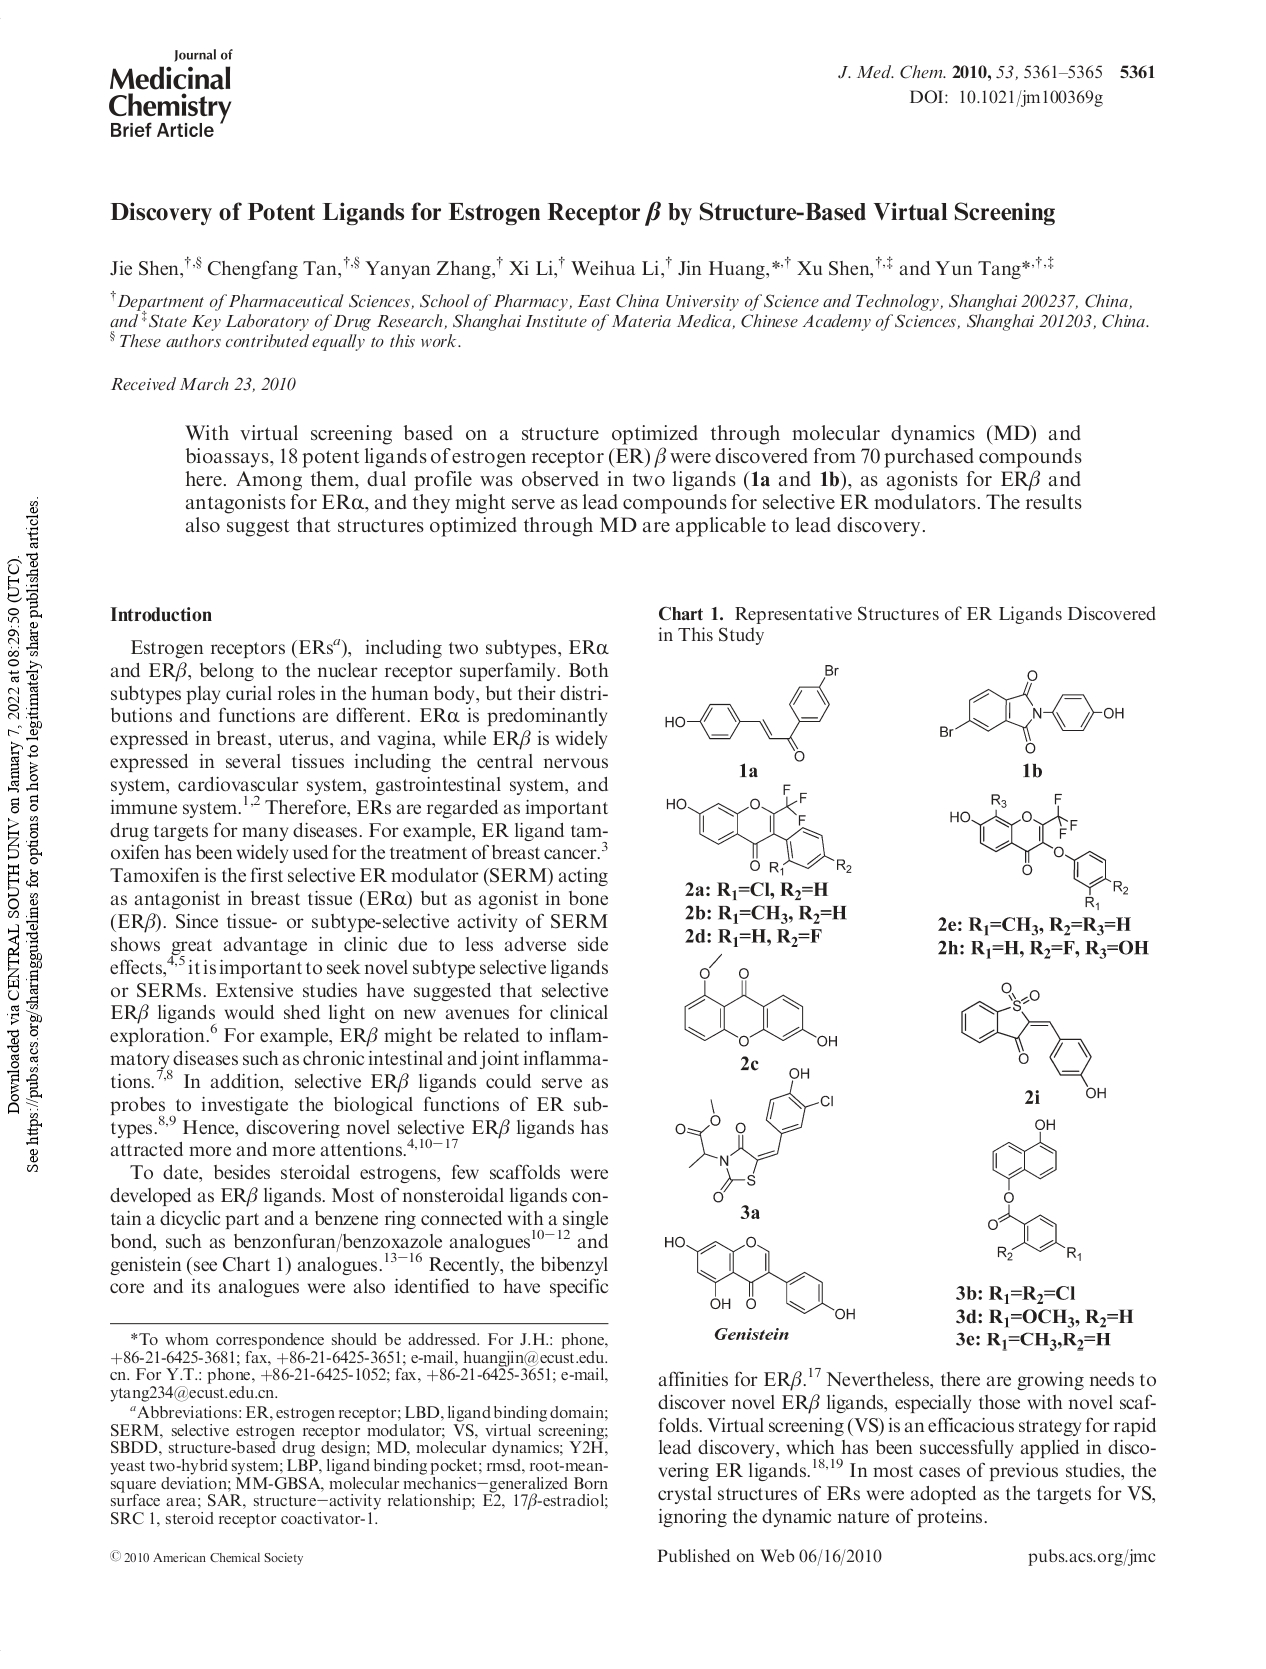exist_molecular: (676, 1067, 836, 1202), (948, 793, 1129, 910), (665, 778, 854, 876), (662, 1230, 858, 1325), (957, 983, 1110, 1100), (664, 661, 840, 762), (942, 668, 1128, 755), (682, 951, 840, 1051), (987, 1114, 1082, 1263)
